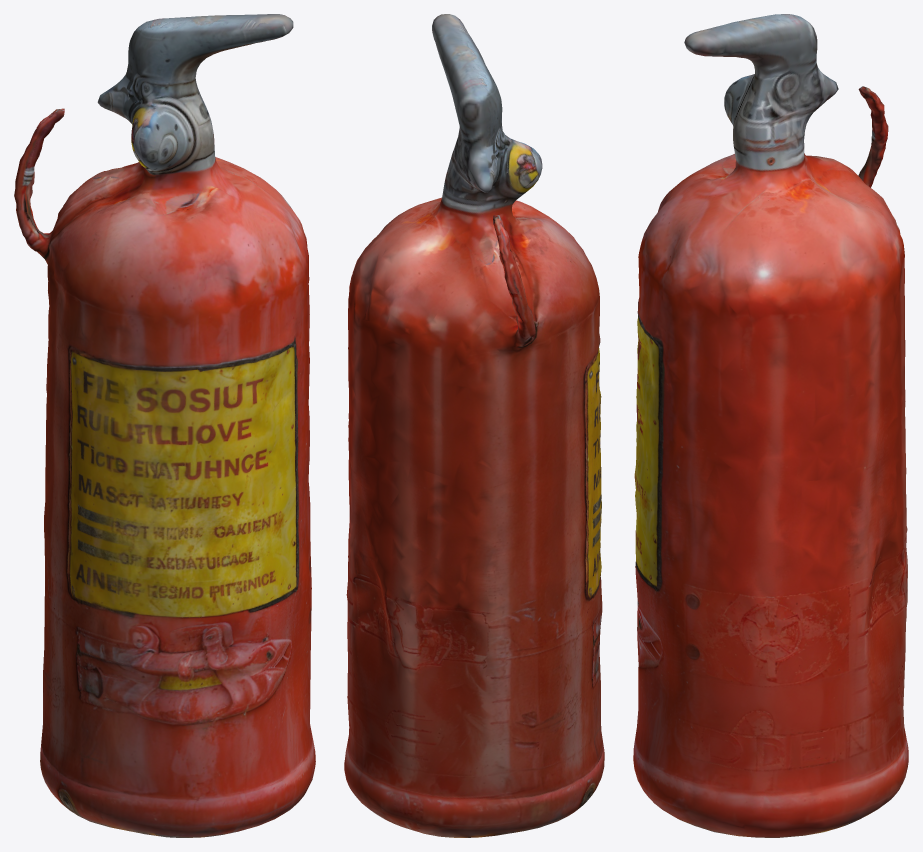
The picture shows the model from 3 angles, left to right: view 1: azimuth 30°, elevation 25°; view 2: azimuth 150°, elevation 25°; view 3: azimuth 270°, elevation 25°; orthographic projection. The views are drawn at different scales.
Size of the model in its own units: 0.3756 by 1.2 by 0.3744.
1 material, 1 textured.
